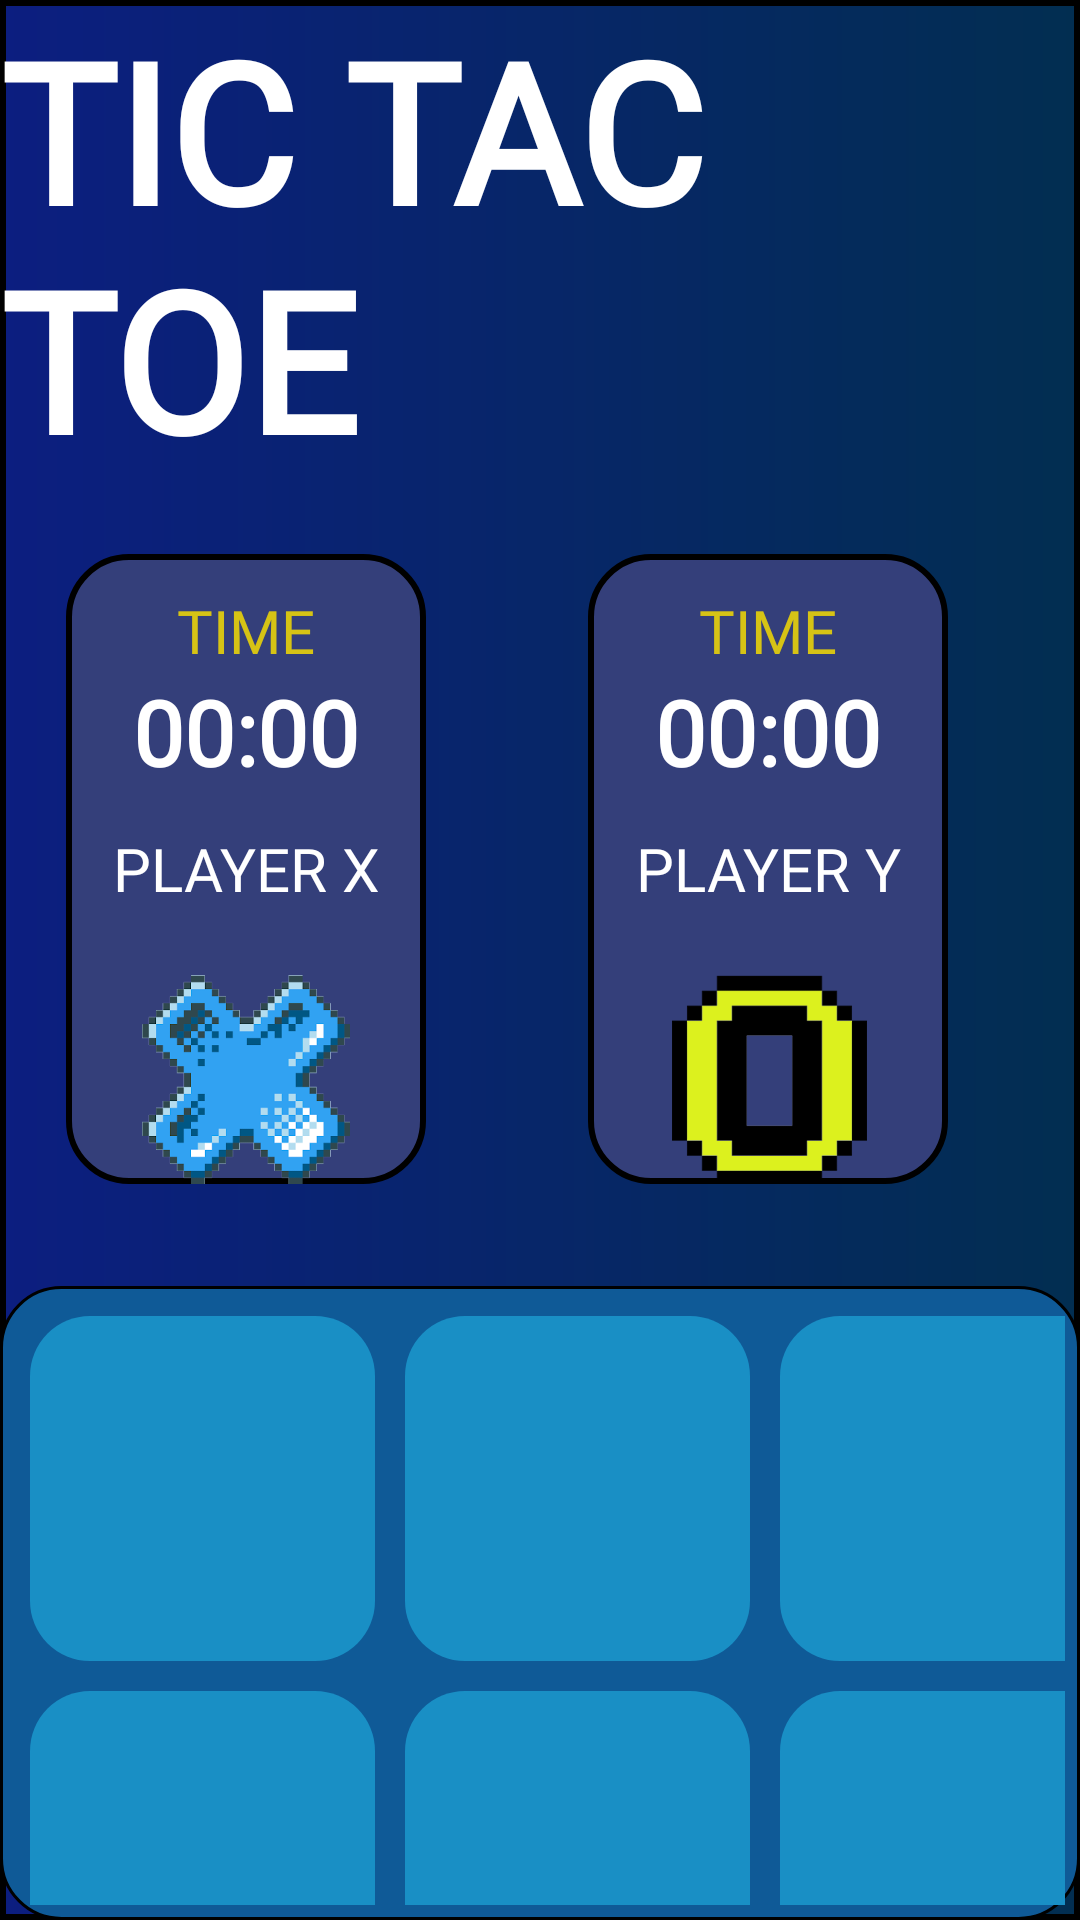

Screen size 1080 x 1920. Icon name, then its box in pixels as (x1, y1, x2, y2):
cross: (141, 975, 351, 1184)
